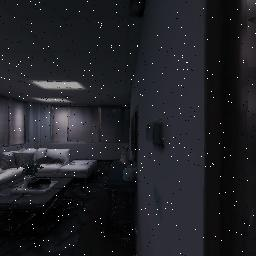sofa: (0, 132, 105, 199)
table: (0, 167, 87, 254)
